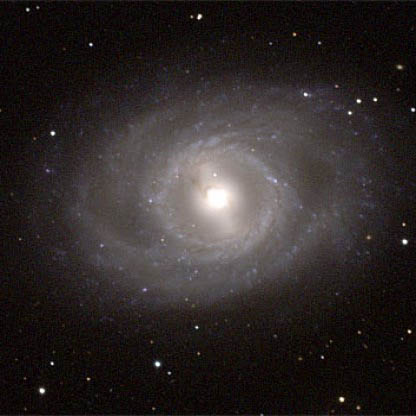Messier 95: (24, 54, 400, 318)
